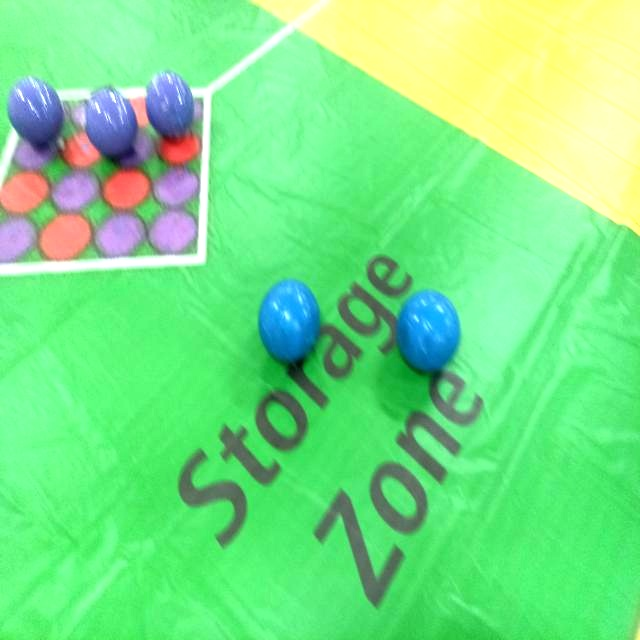blue_ball: (252, 276, 330, 378), (392, 289, 458, 373)
purple_ball: (84, 80, 138, 169), (144, 64, 201, 140), (5, 74, 62, 150)
